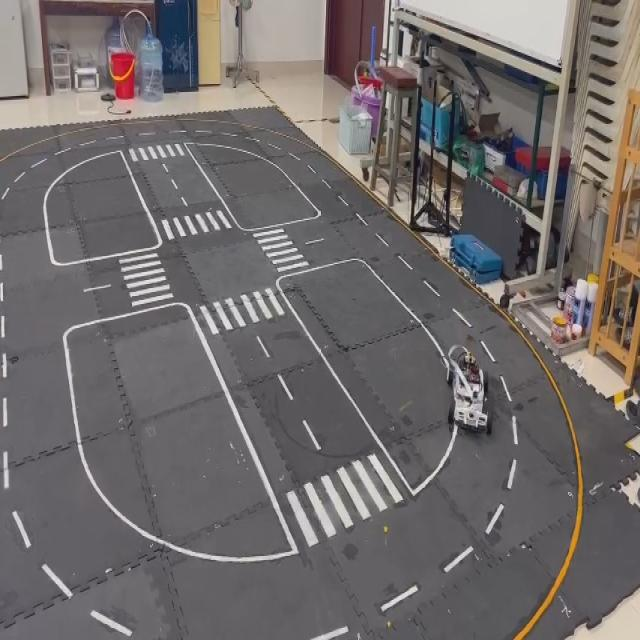SiCo-CAR: (446, 342, 492, 434)
